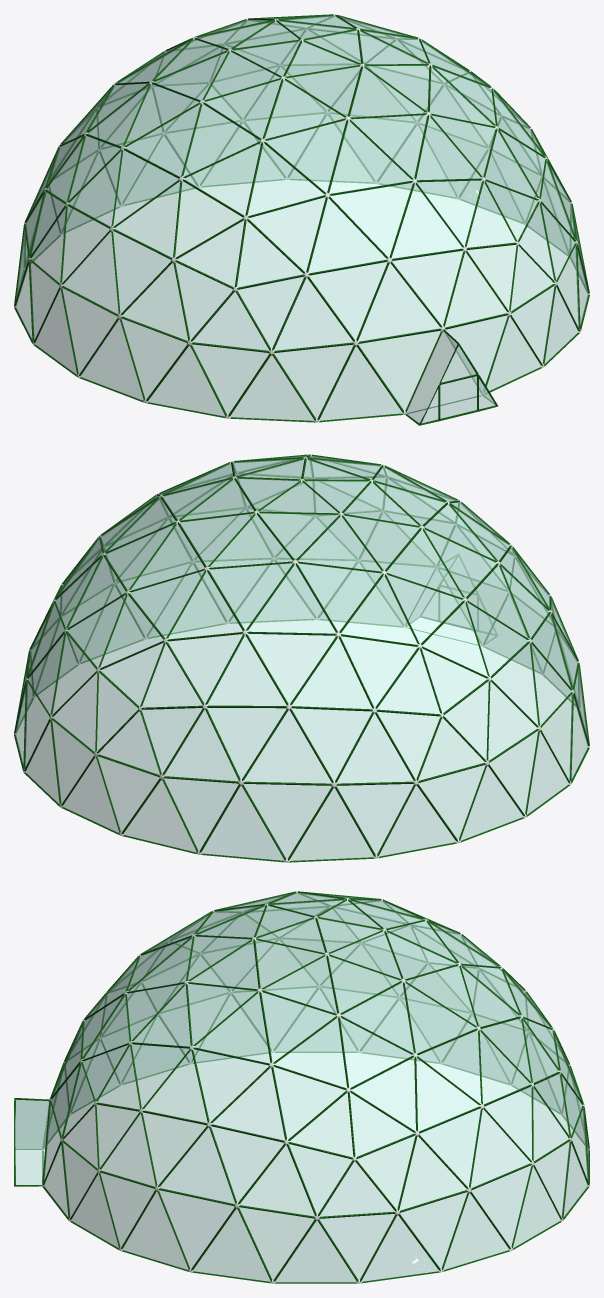
Rendered from Dome_1.fbx.
3 renders of one model, top to bottom at view 1: azimuth 30°, elevation 25°; view 2: azimuth 150°, elevation 25°; view 3: azimuth 270°, elevation 25°, orthographic. The views are drawn at different scales.
Visible parts, largest first — view 1: Icosphere.001_cell.036; view 2: Icosphere.001_cell.036; view 3: Icosphere.001_cell.036.
Part boxes in pixels (box(x1,y1,x2,y2)): Icosphere.001_cell.036: box(14, 14, 589, 425); Icosphere.001_cell.036: box(14, 454, 589, 862); Icosphere.001_cell.036: box(14, 891, 589, 1283).
Bounding box in the file's own units: 4958 × 2517 × 5211.
